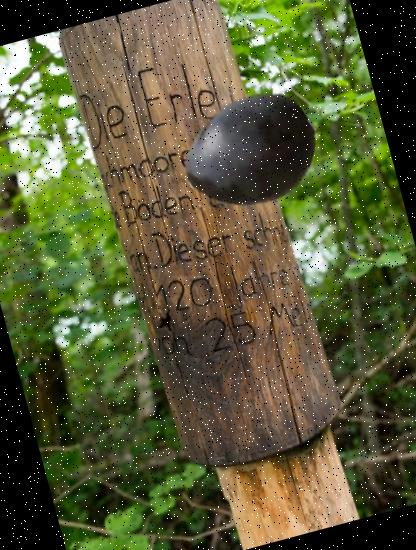Plum: (168, 71, 333, 236)
